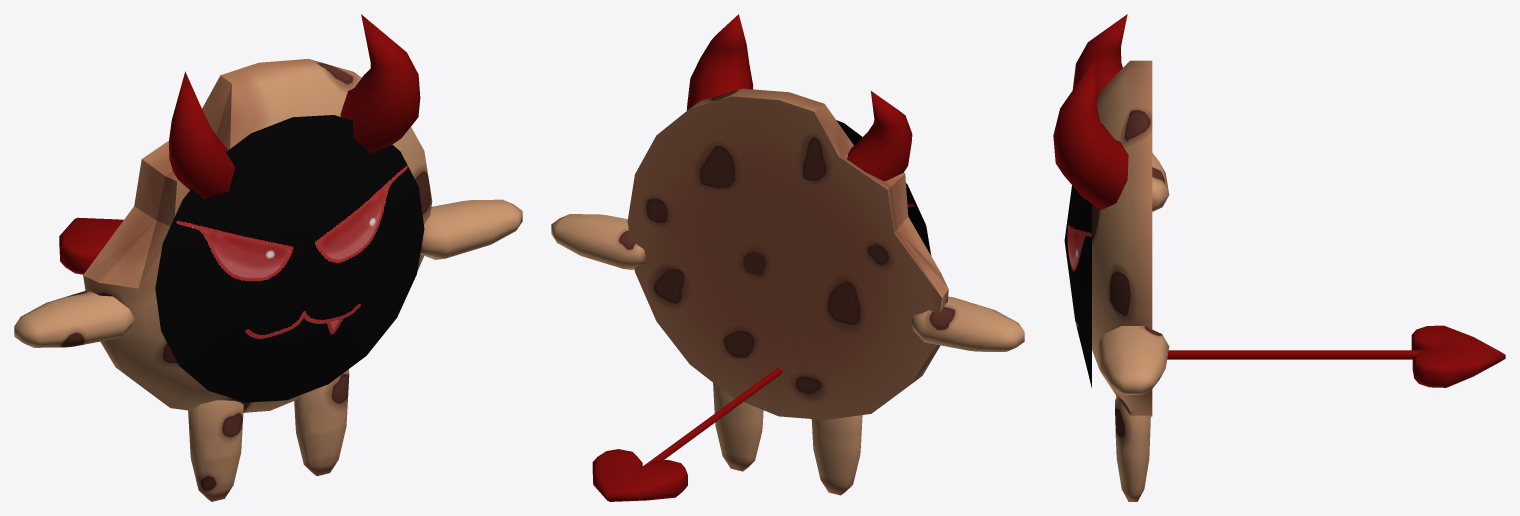
File: DevilishCookie.fbx
3 views of the same model, side by side, from view 1: azimuth 30°, elevation 25°; view 2: azimuth 150°, elevation 25°; view 3: azimuth 270°, elevation 25° (orthographic). The views are drawn at different scales.
Visible parts, largest first — view 1: CookieFace, CookieBody, Outline, CookieArmR, CookieLegR, CookieArmL, CookieLegL; view 2: CookieBody, Outline, CookieArmR, CookieArmL, CookieLegR, CookieLegL, CookieFace; view 3: Outline, CookieBody, CookieArmL, CookieFace, CookieLegL, CookieArmR.
Boxes of the visible parts, x1,y1,x2,y2 form: CookieFace: (155,115,424,402); CookieBody: (83,59,432,412); Outline: (59,14,420,274); CookieArmR: (14,291,134,347); CookieLegR: (188,400,243,501); CookieArmL: (420,199,522,259); CookieLegL: (294,369,349,476); CookieBody: (627,88,948,419); Outline: (592,14,912,501); CookieArmR: (911,296,1024,351); CookieArmL: (551,214,645,269); CookieLegR: (811,415,862,495); CookieLegL: (713,383,763,471); CookieFace: (836,120,931,255); Outline: (1053,14,1505,387); CookieBody: (1092,60,1152,416); CookieArmL: (1096,326,1169,394); CookieFace: (1064,185,1091,387); CookieLegL: (1115,397,1150,501); CookieArmR: (1152,153,1169,211).
Bounding box in the file's own units: 2.21 × 1.98 × 1.81.
